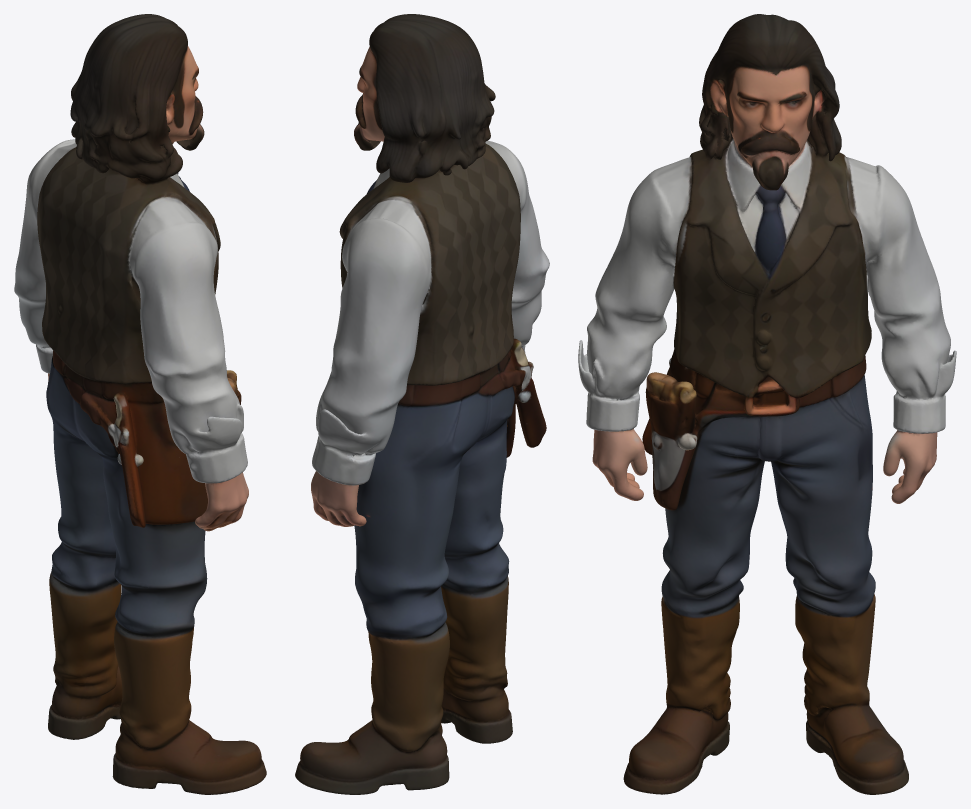
File: stranger_body_mesh.glb
3 views of the same model, side by side, from view 1: azimuth 30°, elevation 25°; view 2: azimuth 150°, elevation 25°; view 3: azimuth 270°, elevation 25° (orthographic). The views are drawn at different scales.
Parts seen in each view (by area): view 1: tripo_node_75c2b3ad-32e0-4945-8fcc-31b757931062; view 2: tripo_node_75c2b3ad-32e0-4945-8fcc-31b757931062; view 3: tripo_node_75c2b3ad-32e0-4945-8fcc-31b757931062.
Part boxes in pixels (x1,y1,x2,y2): tripo_node_75c2b3ad-32e0-4945-8fcc-31b757931062: (14,14,266,794); tripo_node_75c2b3ad-32e0-4945-8fcc-31b757931062: (295,14,549,794); tripo_node_75c2b3ad-32e0-4945-8fcc-31b757931062: (578,14,956,794).
Bounding box in the file's own units: 0.2037 × 1 × 0.46.
Materials: 1 (1 with a texture image).
